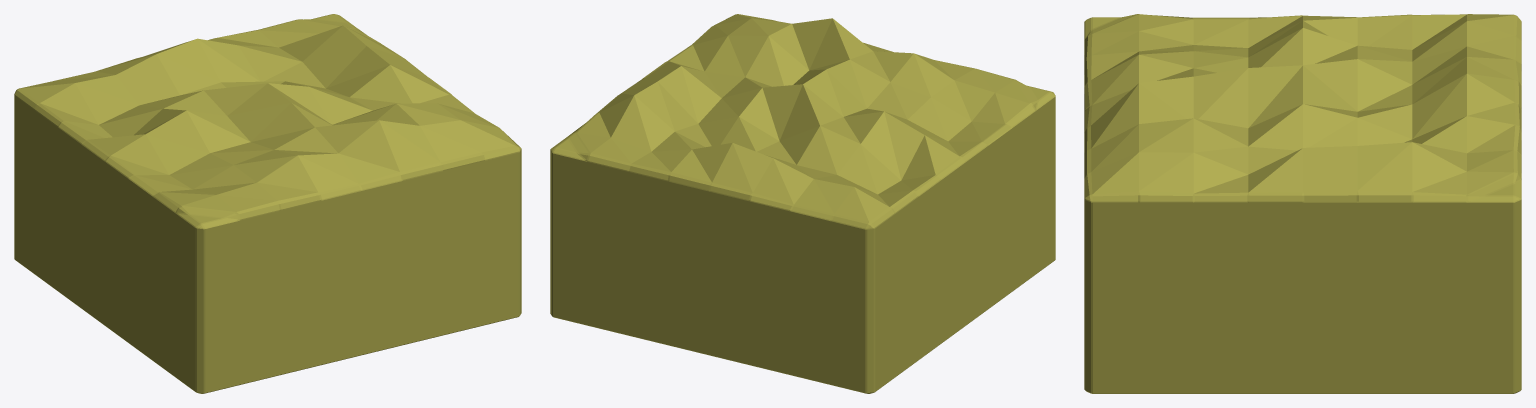
Rendered from Sand.fbx.
3 renders of one model, left to right at view 1: azimuth 30°, elevation 25°; view 2: azimuth 150°, elevation 25°; view 3: azimuth 270°, elevation 25°, orthographic. The views are drawn at different scales.
Visible parts, largest first — view 1: Cube; view 2: Cube; view 3: Cube.
Boxes of the visible parts, x1,y1,x2,y2 form: Cube: (14,14,521,393); Cube: (550,14,1055,393); Cube: (1084,14,1521,393).
Size of the model in its own units: 200 by 124 by 200.
